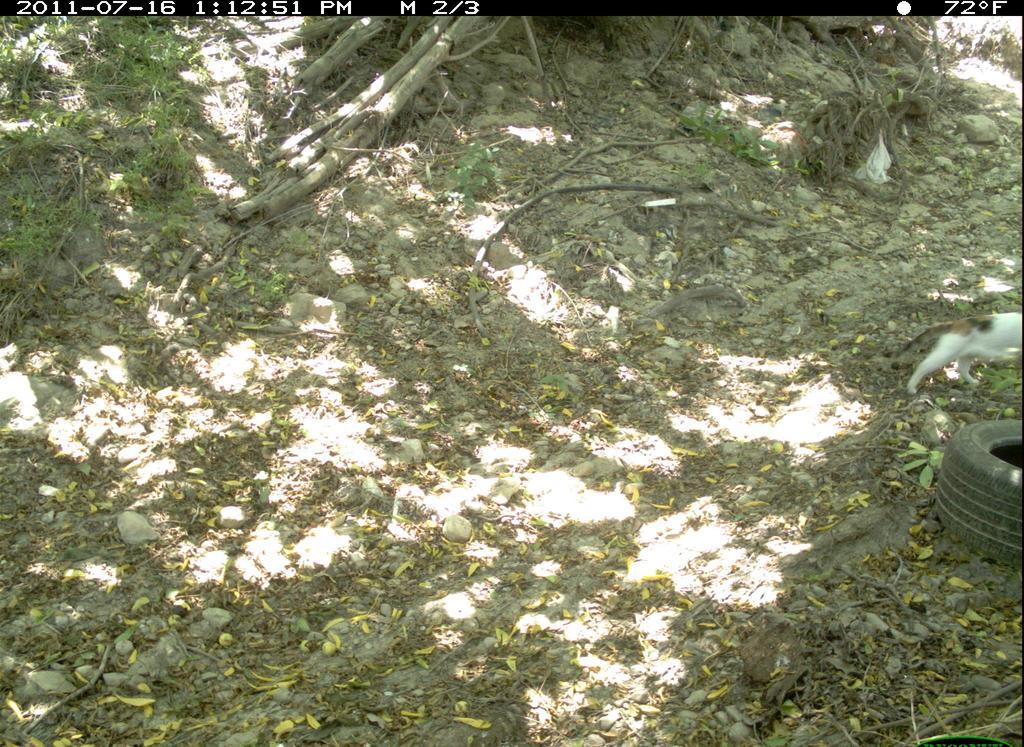cat: (872, 304, 1024, 405)
